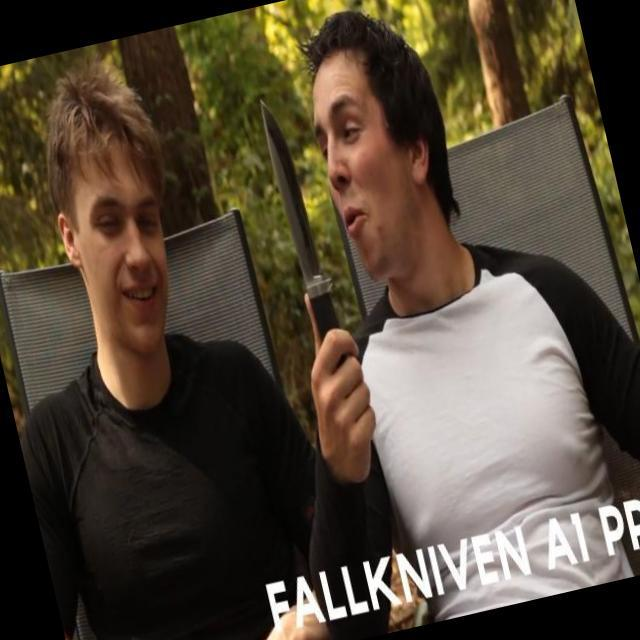Knife: (242, 74, 374, 417)
